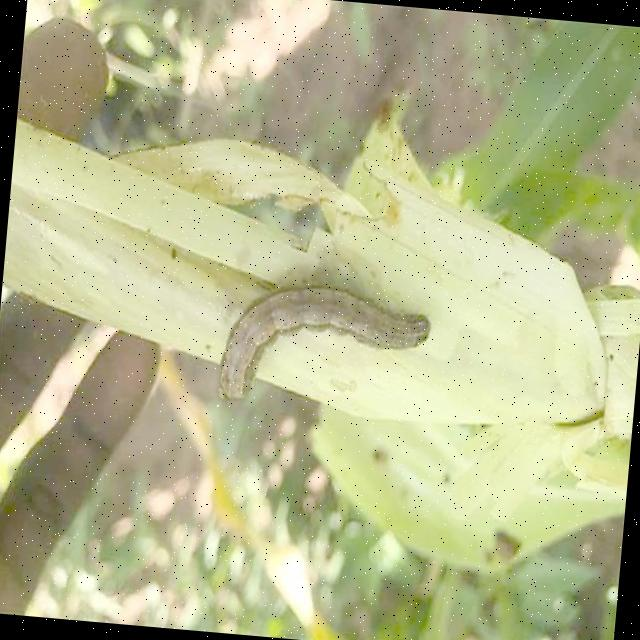worm: (217, 279, 436, 422)
